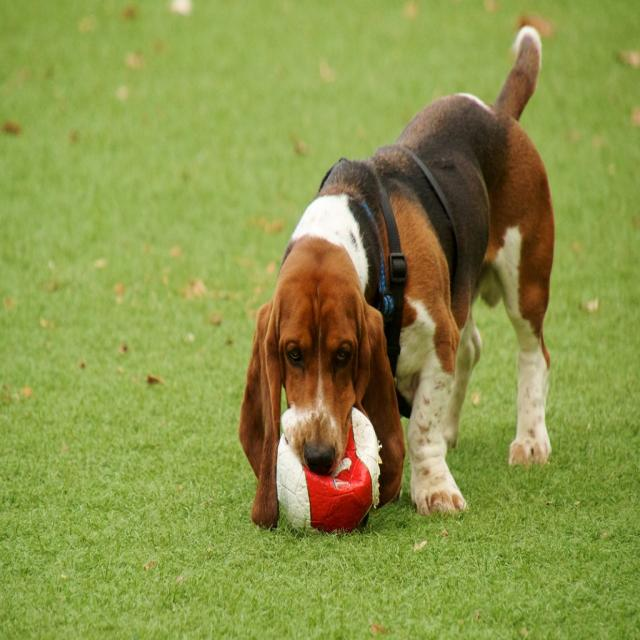Dog: (237, 23, 561, 536)
